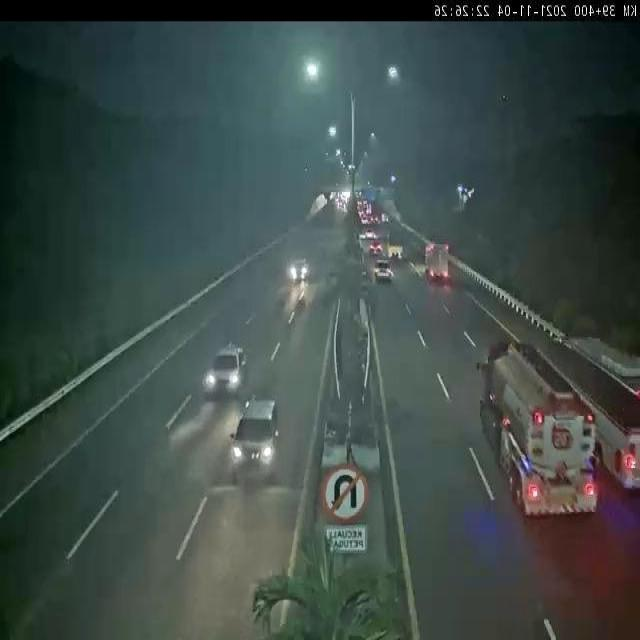Bus: (556, 310, 639, 496)
Car: (226, 397, 286, 474), (204, 342, 249, 402), (282, 255, 314, 292), (374, 260, 394, 288), (367, 241, 384, 265)
Truck: (472, 340, 598, 537), (425, 235, 454, 286)
